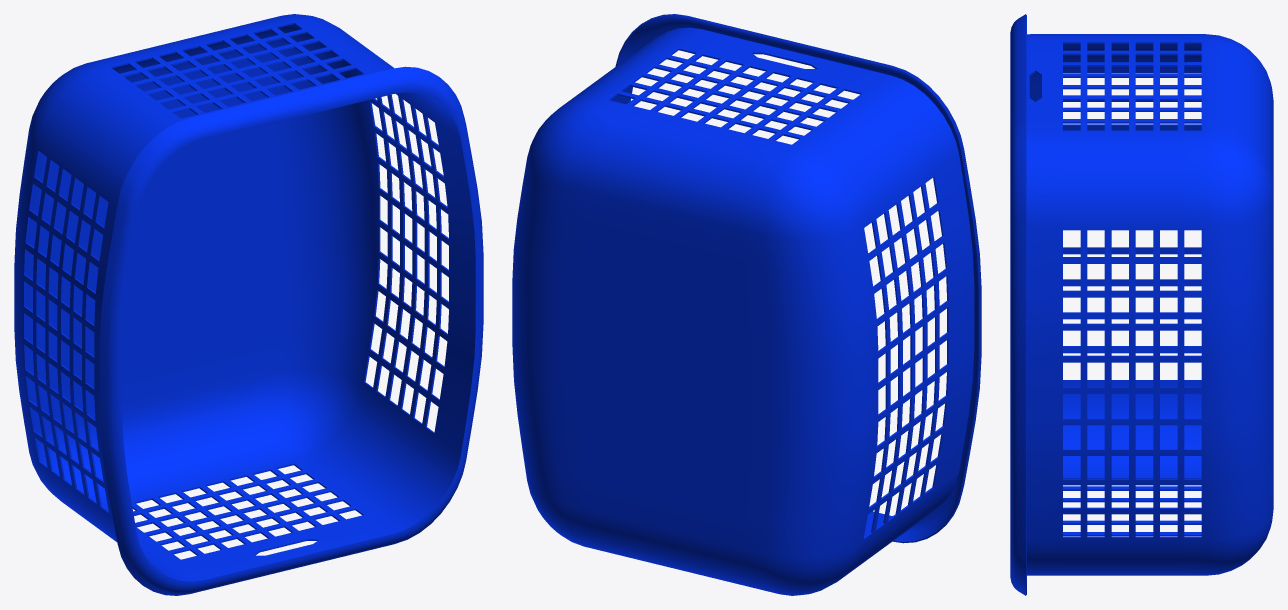
Rendered from laundry_basket.obj.
3 views of the same model, side by side, from view 1: azimuth 30°, elevation 25°; view 2: azimuth 150°, elevation 25°; view 3: azimuth 270°, elevation 25° (orthographic).
Bounding box in the file's own units: 2.5 × 2.97 × 1.5.
